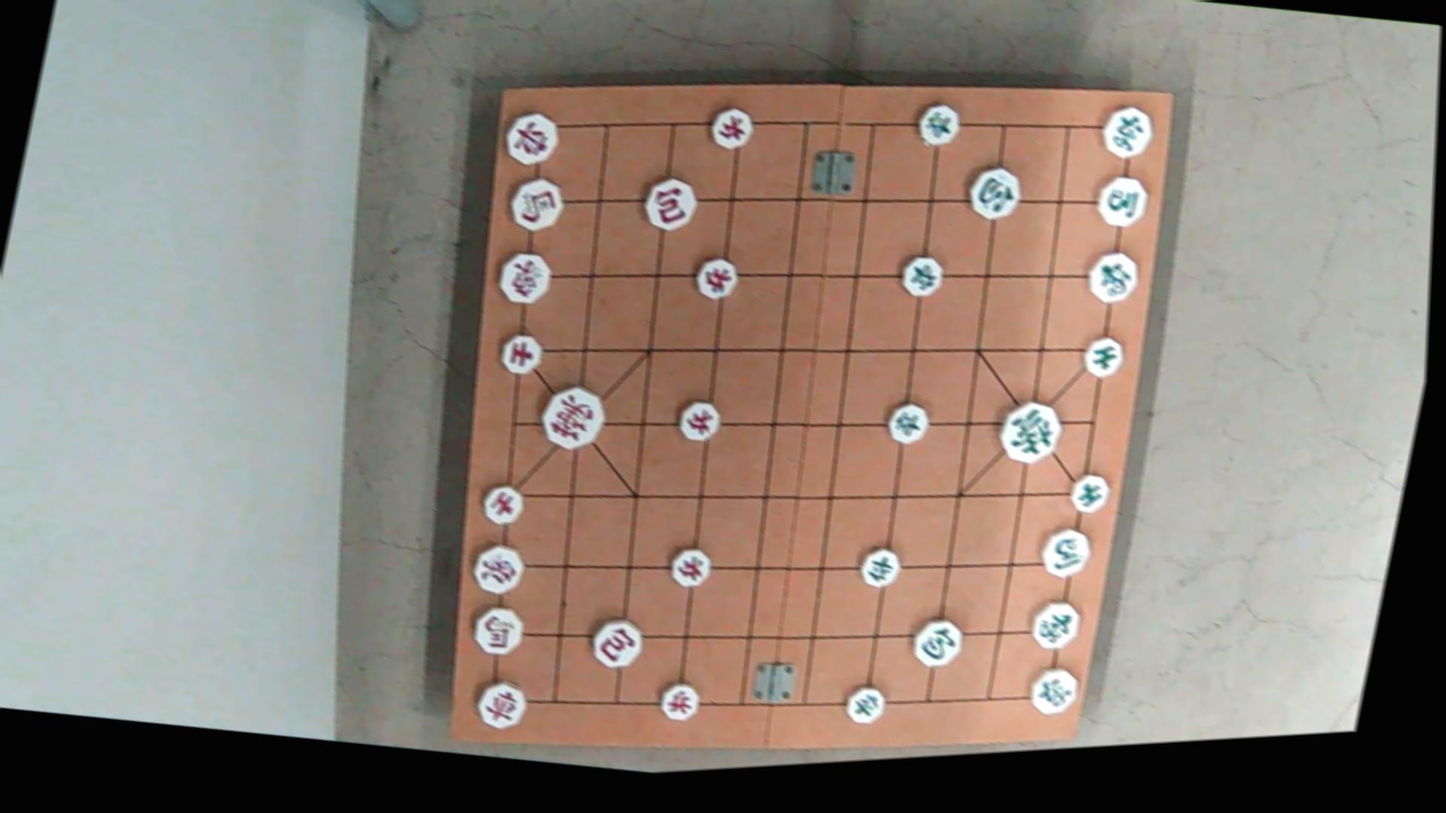cha_green: (1097, 101, 1159, 159), (1022, 660, 1081, 714)
cha_red: (496, 107, 562, 167), (471, 677, 532, 729)
jol_green: (911, 98, 963, 145), (898, 250, 949, 295), (883, 399, 935, 443), (855, 544, 906, 588), (841, 681, 889, 722)
jol_red: (703, 104, 756, 150), (689, 252, 741, 298), (676, 395, 726, 440), (664, 547, 715, 591), (655, 678, 703, 720)
ma_green: (1089, 172, 1151, 229), (1034, 523, 1094, 577)
ma_red: (502, 173, 568, 236), (471, 603, 531, 657)
po_green: (962, 165, 1025, 221), (908, 611, 969, 668)
po_red: (585, 612, 648, 669), (641, 174, 703, 231)
sa_green: (1077, 333, 1129, 382), (1063, 469, 1113, 514)
sa_red: (474, 480, 529, 526), (496, 331, 547, 378)
sang_green: (1081, 247, 1144, 309), (1023, 595, 1082, 650)
sang_red: (468, 535, 529, 598), (496, 250, 559, 309)
wang_green: (993, 396, 1065, 468)
wang_red: (529, 379, 609, 456)
